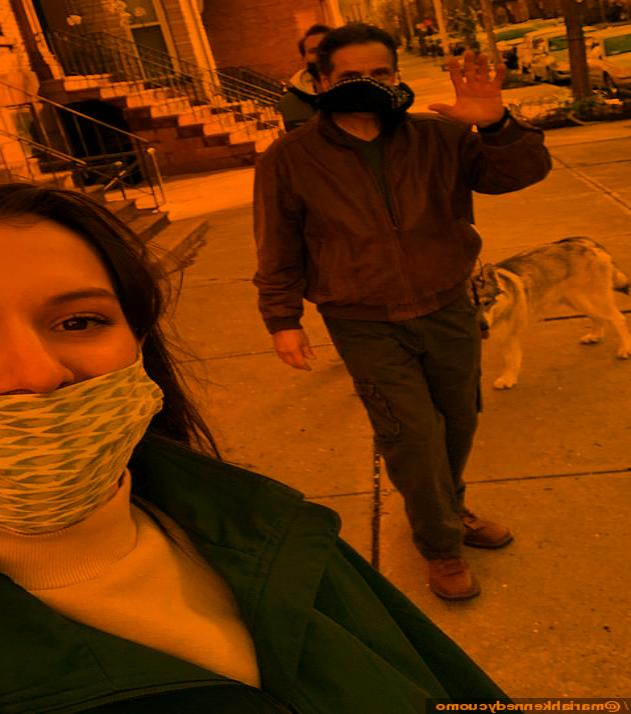mask_weared_incorrect: (1, 177, 167, 532)
